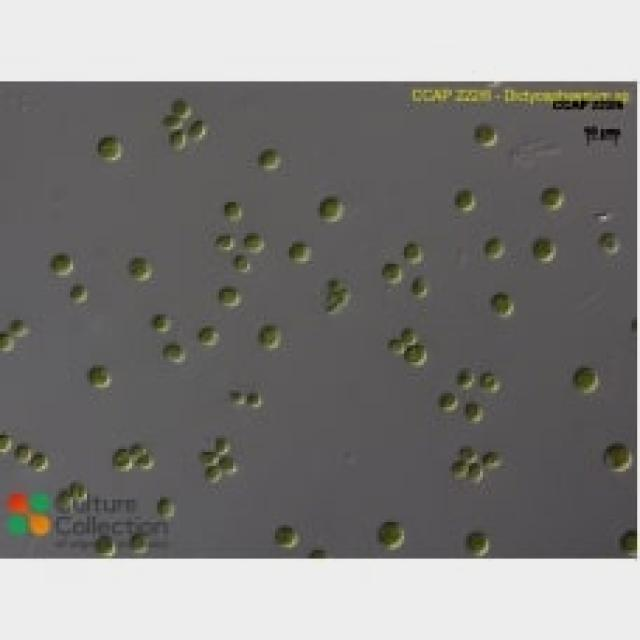Green Algae: (373, 517, 407, 550), (601, 441, 634, 474), (252, 322, 284, 353), (317, 191, 345, 224), (124, 250, 152, 283), (491, 286, 517, 320), (84, 359, 112, 390), (461, 528, 492, 556), (595, 225, 620, 258), (280, 238, 308, 266), (572, 365, 600, 393), (160, 337, 188, 365), (270, 522, 300, 547), (95, 135, 121, 163), (530, 236, 556, 264), (255, 143, 278, 174), (472, 126, 499, 152), (539, 182, 564, 210), (483, 230, 508, 258), (48, 250, 76, 275), (152, 494, 180, 519), (452, 185, 477, 211), (28, 449, 53, 475), (112, 444, 135, 472), (402, 342, 429, 365), (216, 283, 242, 306), (67, 281, 90, 306), (477, 368, 500, 393), (222, 199, 244, 225), (379, 258, 401, 284), (196, 323, 222, 345), (171, 95, 194, 118), (404, 238, 424, 264), (435, 387, 455, 413), (466, 460, 486, 486), (213, 430, 230, 460), (11, 441, 31, 466), (216, 458, 242, 477), (460, 399, 480, 421), (152, 312, 174, 331), (244, 233, 264, 253), (163, 110, 182, 129), (460, 444, 478, 463)
